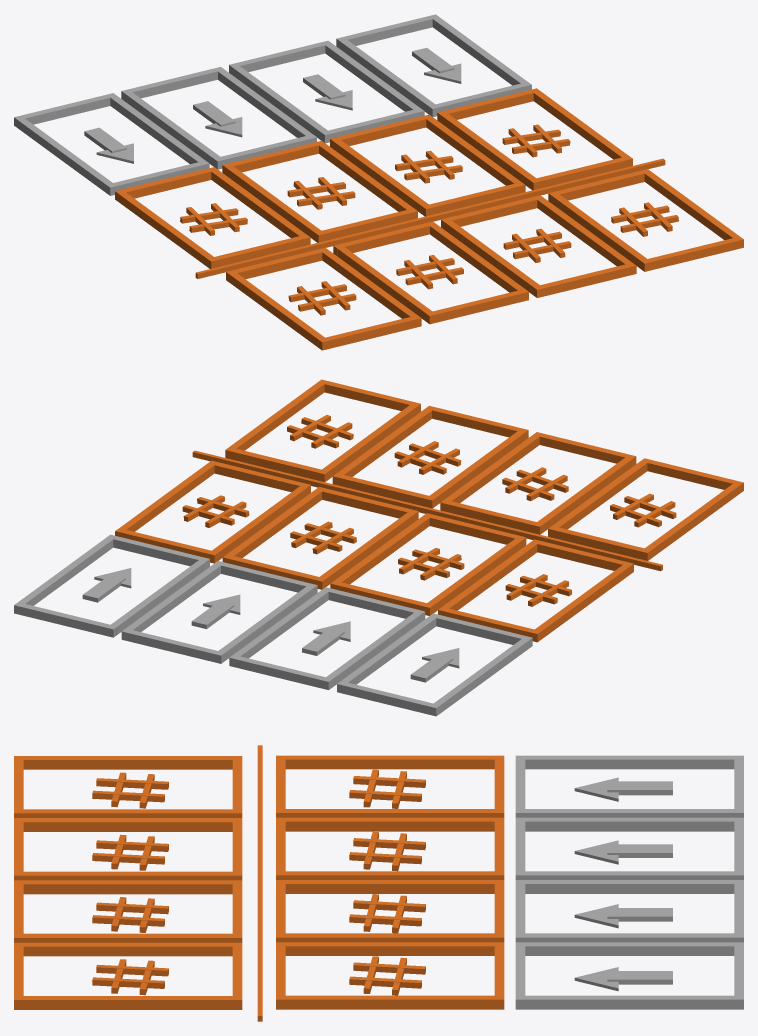
Rendered from noemissiontest.glb.
The picture shows the model from 3 angles, top to bottom: view 1: azimuth 30°, elevation 25°; view 2: azimuth 150°, elevation 25°; view 3: azimuth 270°, elevation 25°; orthographic projection. The views are drawn at different scales.
Parts seen in each view (by area): view 1: Cube.001, Cube.002, Cube.003, Cube; view 2: Cube.001, Cube.003, Cube.002, Cube; view 3: Cube.002, Cube.001, Cube.003, Cube.
Boxes of the visible parts, <box> form: Cube.001: <box>226,169,743,350</box>; Cube.002: <box>115,88,632,268</box>; Cube.003: <box>14,14,531,195</box>; Cube: <box>195,158,665,278</box>; Cube.001: <box>225,379,743,560</box>; Cube.003: <box>14,534,532,716</box>; Cube.002: <box>115,460,633,642</box>; Cube: <box>192,450,662,571</box>; Cube.002: <box>276,755,504,1009</box>; Cube.001: <box>14,756,242,1009</box>; Cube.003: <box>515,755,743,1009</box>; Cube: <box>257,745,262,1021</box>.
Bounding box in the file's own units: 176 × 2.98 × 201.
